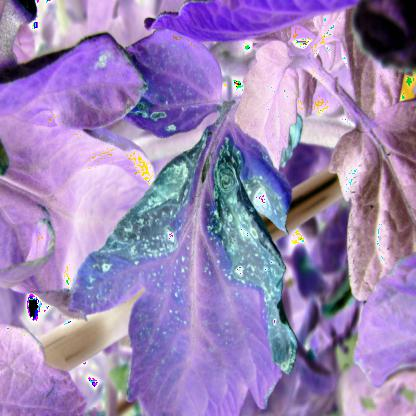tomato early blight leaf: (82, 81, 307, 415)
